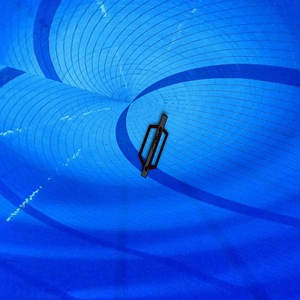submarine: (132, 105, 177, 181)
